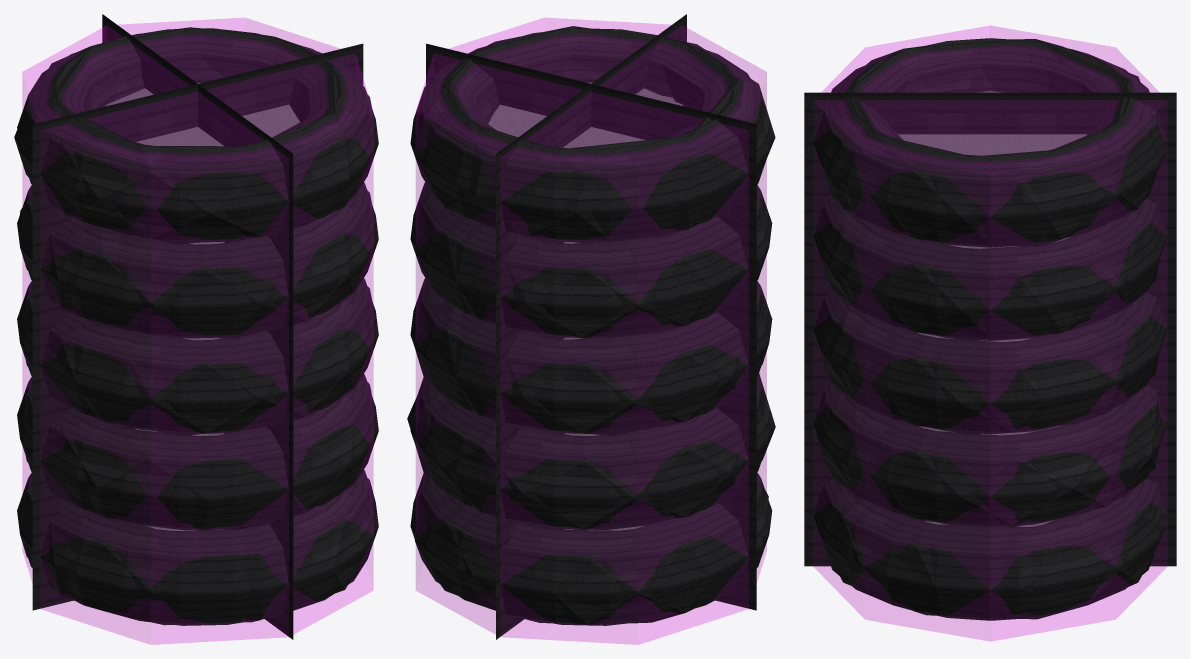
Rendered from tire_stack_5.dae.
3 views of the same model, side by side, from view 1: azimuth 30°, elevation 25°; view 2: azimuth 150°, elevation 25°; view 3: azimuth 270°, elevation 25° (orthographic). The views are drawn at different scales.
Visible parts, largest first — view 1: tire_stack_5_a800, Colmesh_stack-1, tire_stack_5_a200, tire_stack_5_a50; view 2: tire_stack_5_a800, Colmesh_stack-1, tire_stack_5_a200, tire_stack_5_a50; view 3: tire_stack_5_a800, Colmesh_stack-1, tire_stack_5_a200, tire_stack_5_a50.
Boxes of the visible parts, x1,y1,x2,y2 form: tire_stack_5_a800: [17, 28, 378, 625]; Colmesh_stack-1: [22, 18, 373, 644]; tire_stack_5_a200: [14, 27, 378, 625]; tire_stack_5_a50: [32, 14, 363, 639]; tire_stack_5_a800: [410, 28, 772, 625]; Colmesh_stack-1: [416, 18, 766, 644]; tire_stack_5_a200: [407, 26, 775, 624]; tire_stack_5_a50: [426, 14, 756, 639]; tire_stack_5_a800: [813, 38, 1167, 620]; Colmesh_stack-1: [813, 25, 1167, 641]; tire_stack_5_a200: [813, 39, 1166, 619]; tire_stack_5_a50: [804, 92, 1176, 566].
Bounding box in the file's own units: 0.798 × 0.798 × 1.12.
3 materials, 2 textured.
